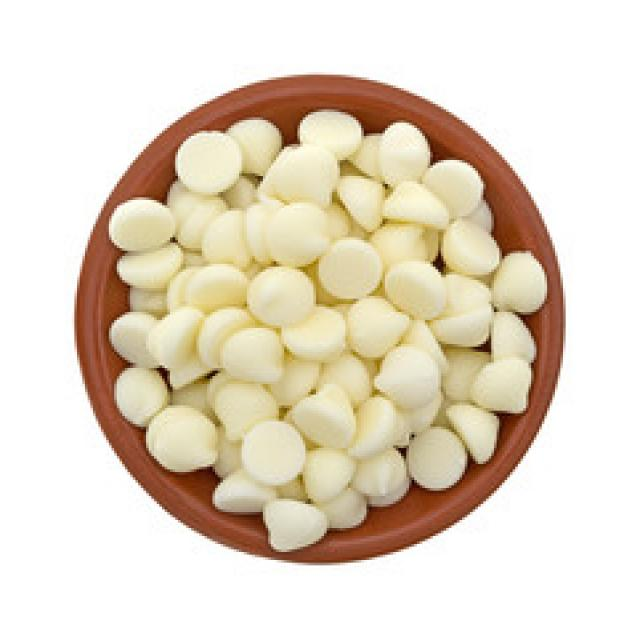Chocolate: (109, 94, 553, 570)
